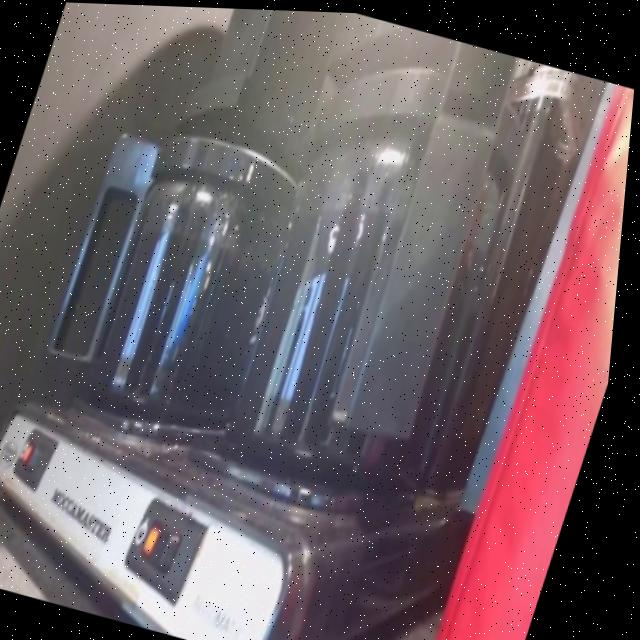coffee: (226, 166, 507, 492), (91, 194, 293, 428)
